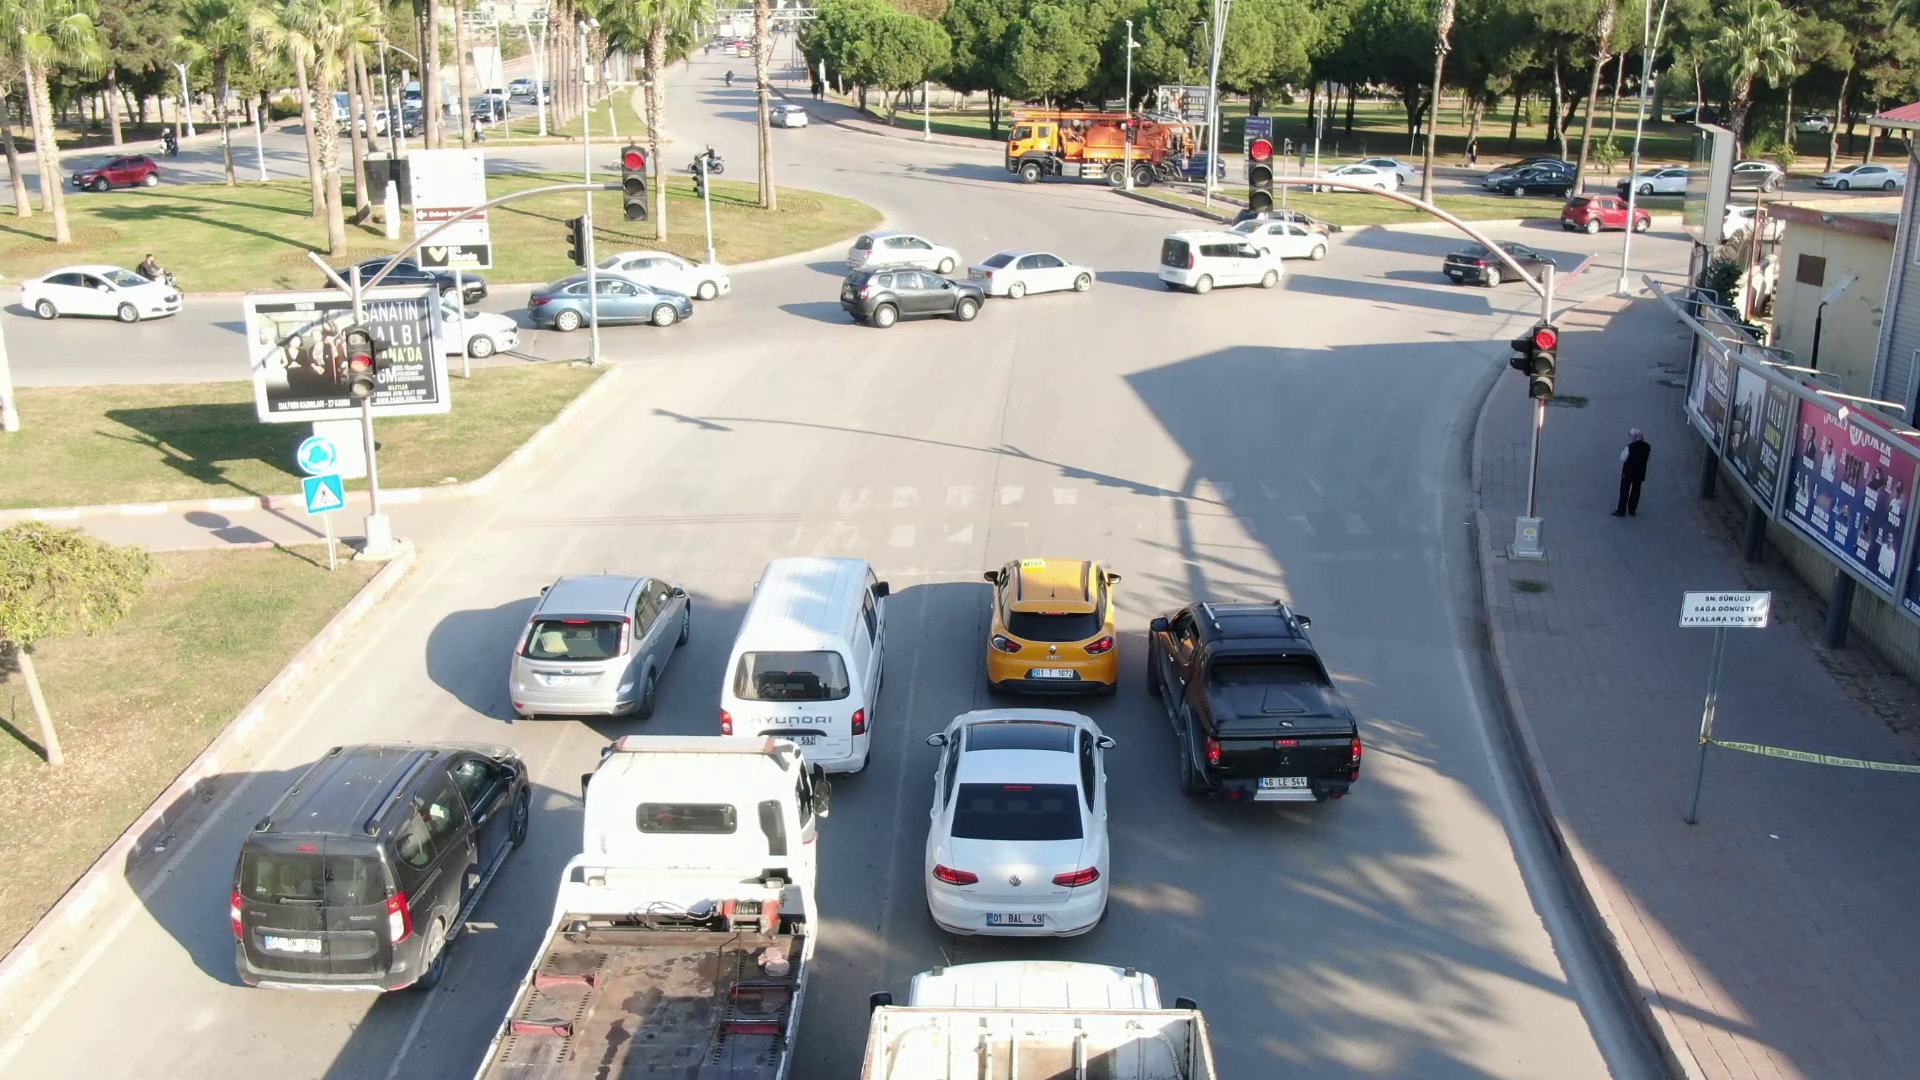car: (223, 732, 531, 997), (1143, 591, 1370, 814), (920, 700, 1117, 942), (708, 550, 899, 773), (506, 564, 698, 719), (984, 553, 1121, 702), (525, 266, 698, 336), (840, 262, 981, 334), (16, 265, 185, 324), (1159, 231, 1288, 294), (971, 247, 1097, 305), (1441, 241, 1559, 290), (69, 149, 165, 190), (1490, 164, 1586, 204), (1563, 193, 1654, 235), (1816, 161, 1908, 195), (767, 100, 818, 131)
